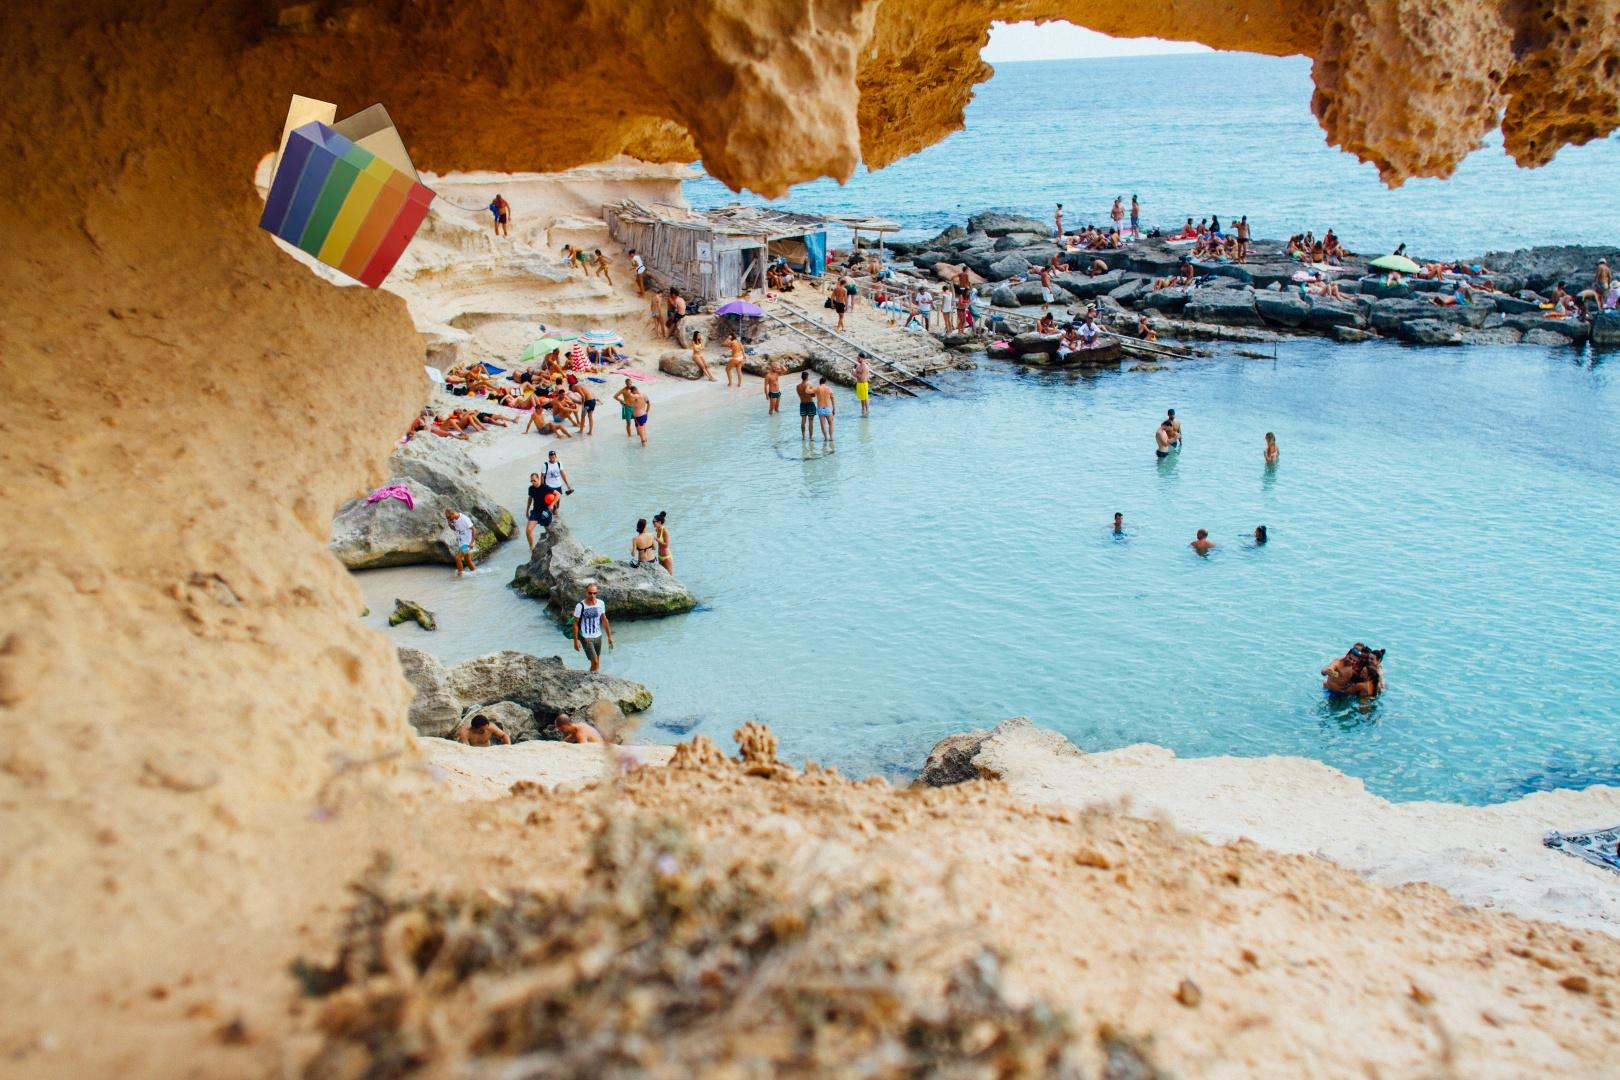paper-bag: (256, 90, 445, 293)
